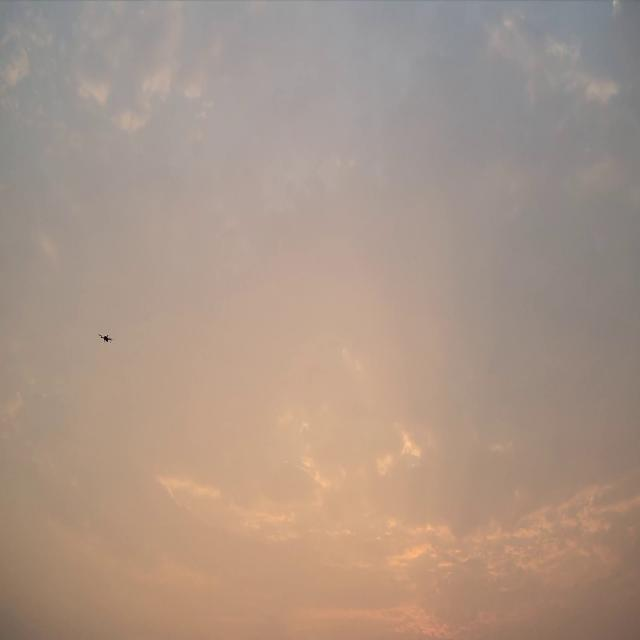drone: (98, 333, 114, 342)
